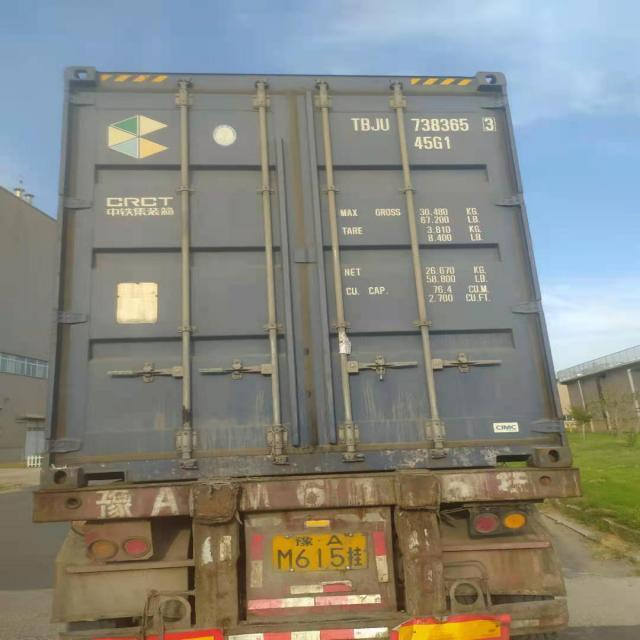ISO: (413, 137, 450, 153)
container_number: (358, 116, 498, 135)
